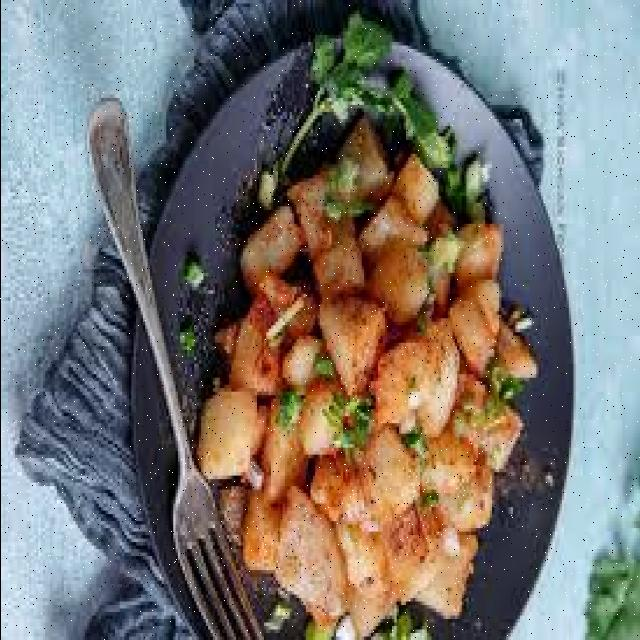Potato: (202, 119, 535, 637)
